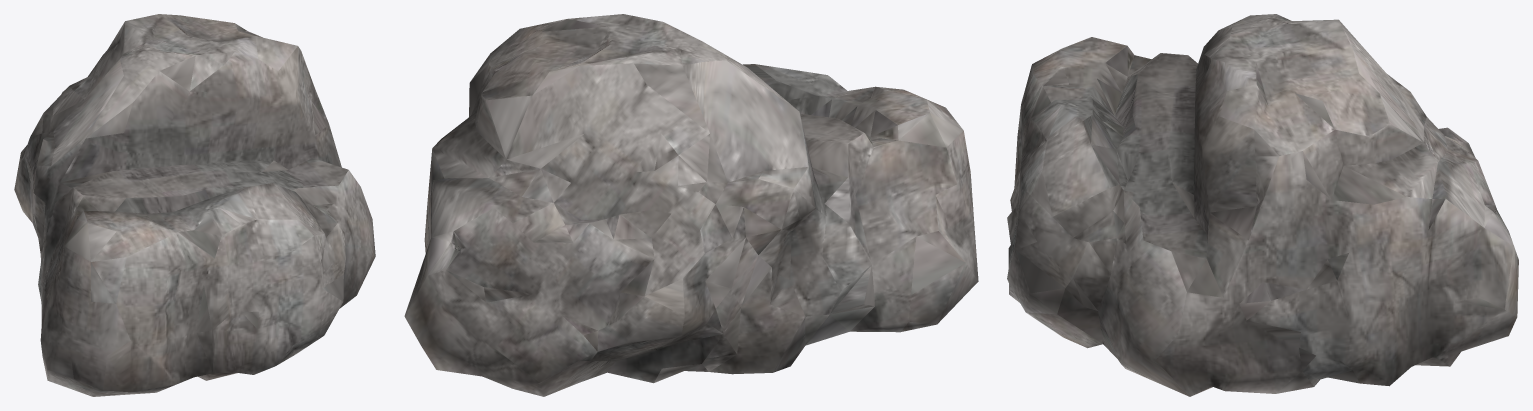
Rendered from SM_ground_rocks.glb.
3 renders of one model, left to right at view 1: azimuth 30°, elevation 25°; view 2: azimuth 150°, elevation 25°; view 3: azimuth 270°, elevation 25°, orthographic. The views are drawn at different scales.
Parts seen in each view (by area): view 1: SM_ground_rocks; view 2: SM_ground_rocks; view 3: SM_ground_rocks.
Boxes of the visible parts, <box> form: SM_ground_rocks: <box>14,14,375,396</box>; SM_ground_rocks: <box>404,14,978,396</box>; SM_ground_rocks: <box>1007,14,1518,396</box>.
Bounding box in the file's own units: 0.6596 × 0.471 × 0.7077.
Materials: 1 (1 with a texture image).
